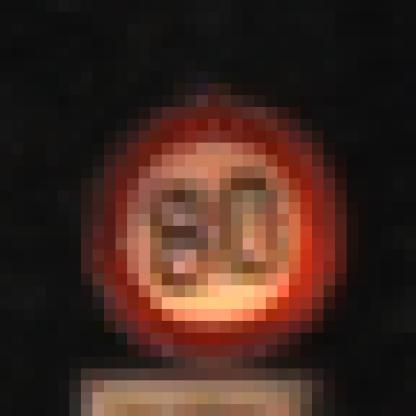Speed Limit 80: (95, 104, 333, 359)
